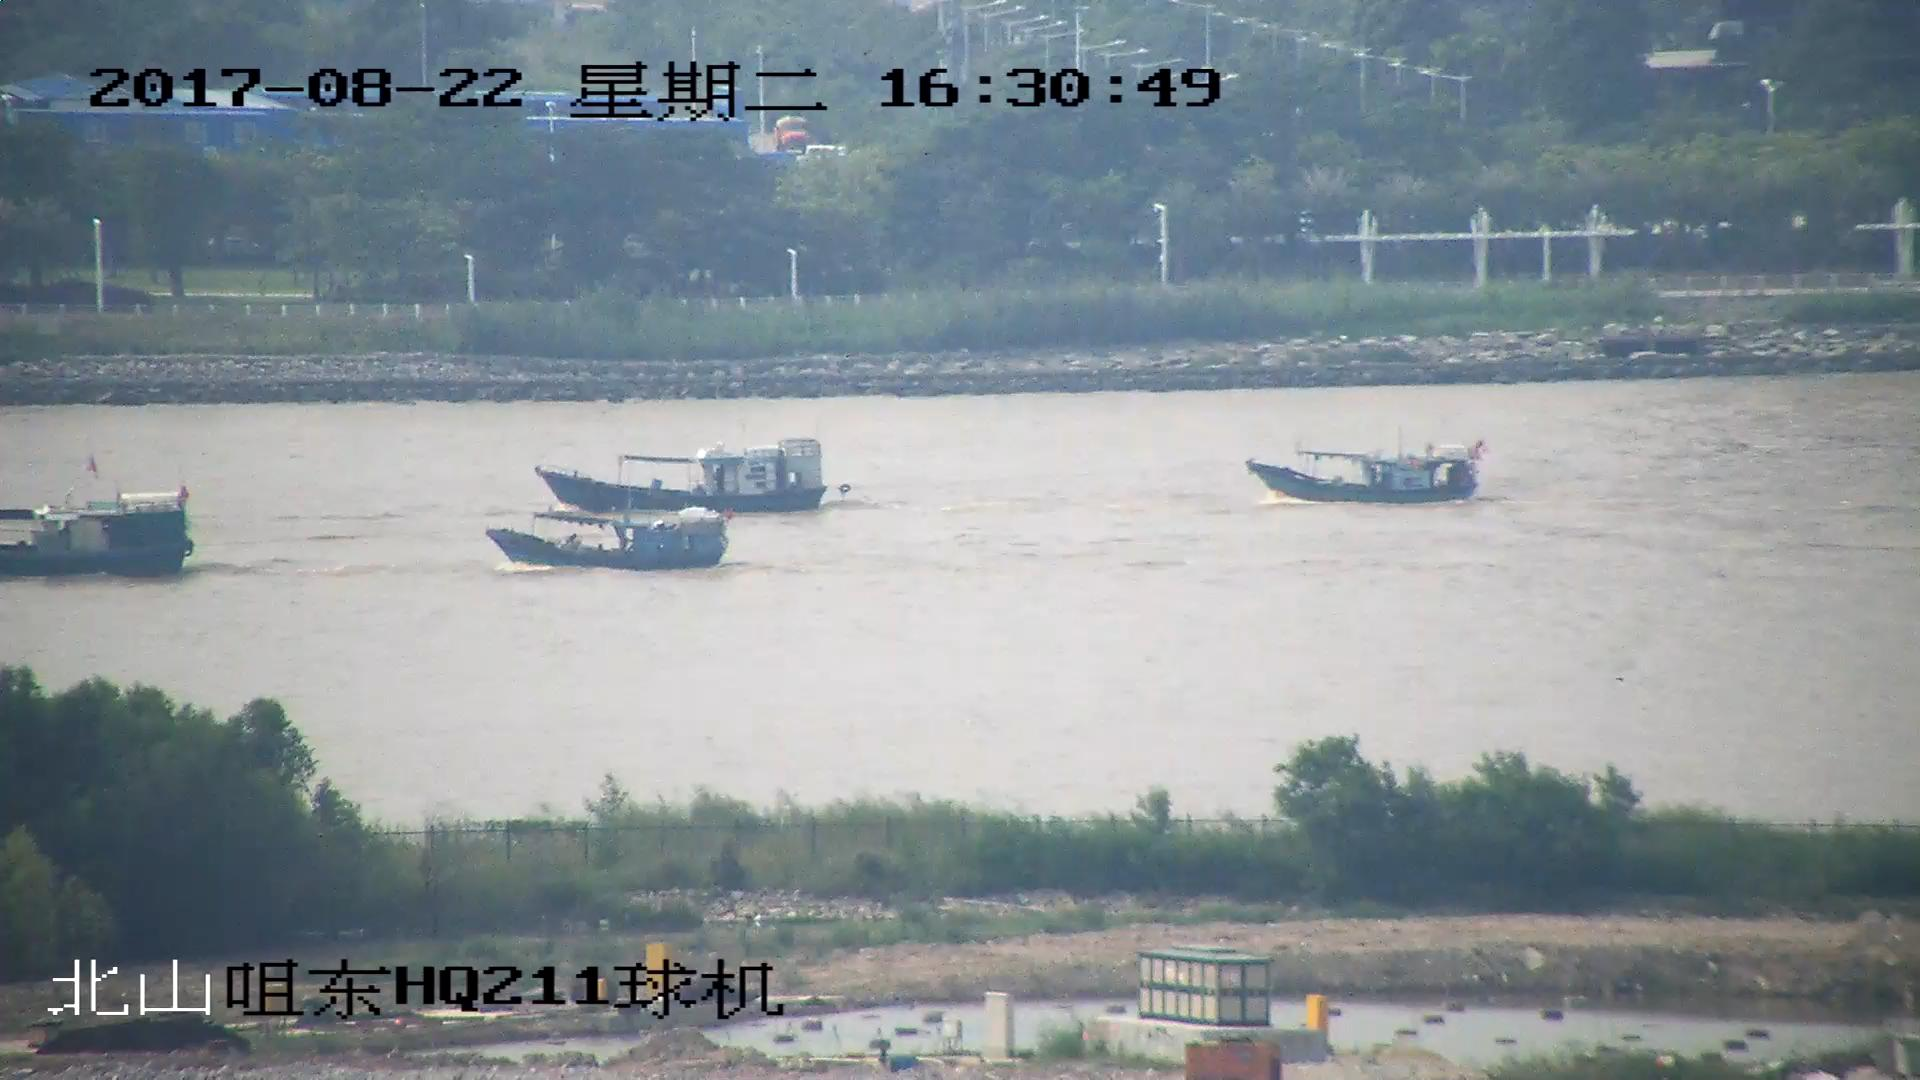fishing boat: (535, 435, 829, 516), (1, 472, 197, 578), (487, 507, 731, 571), (1250, 442, 1487, 507)
